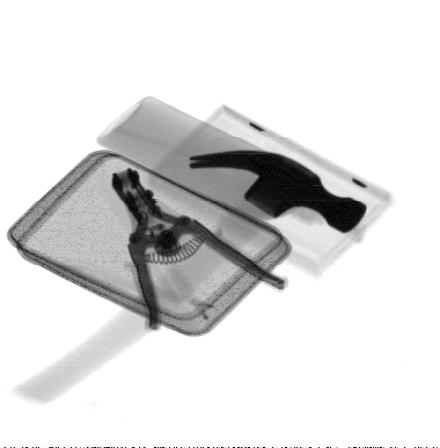Hammer: (14, 150, 372, 405)
Pliers: (110, 167, 292, 332)
